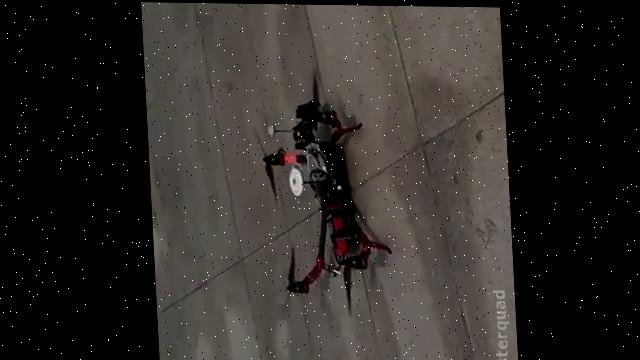drone: (241, 62, 395, 325)
